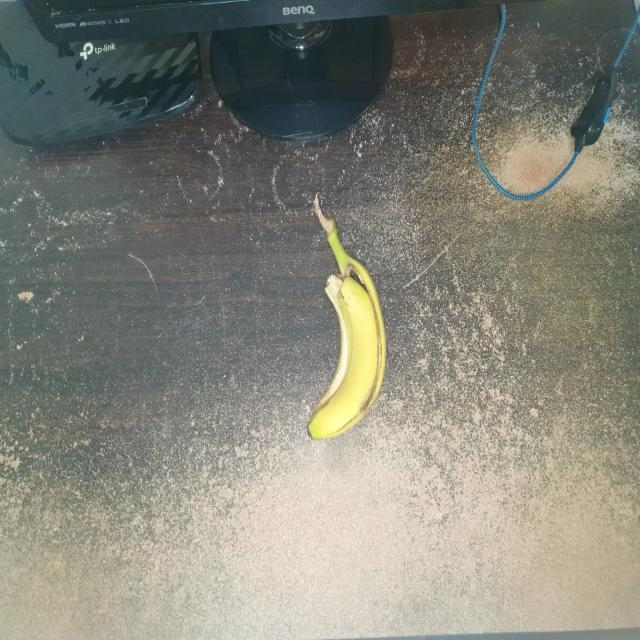banana-peel: (306, 192, 387, 440)
